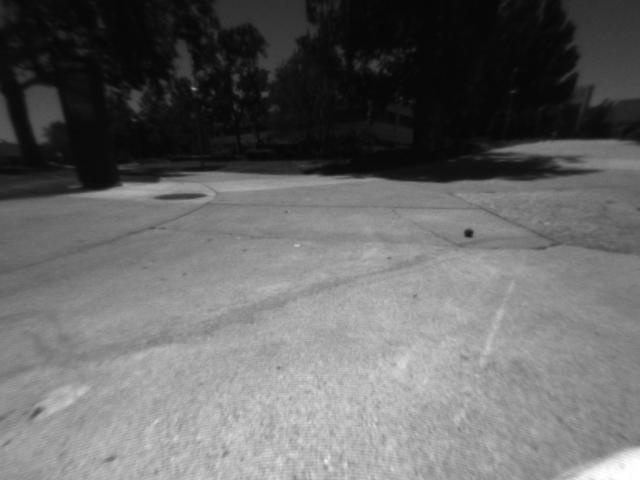dogtoy: (457, 222, 481, 241)
